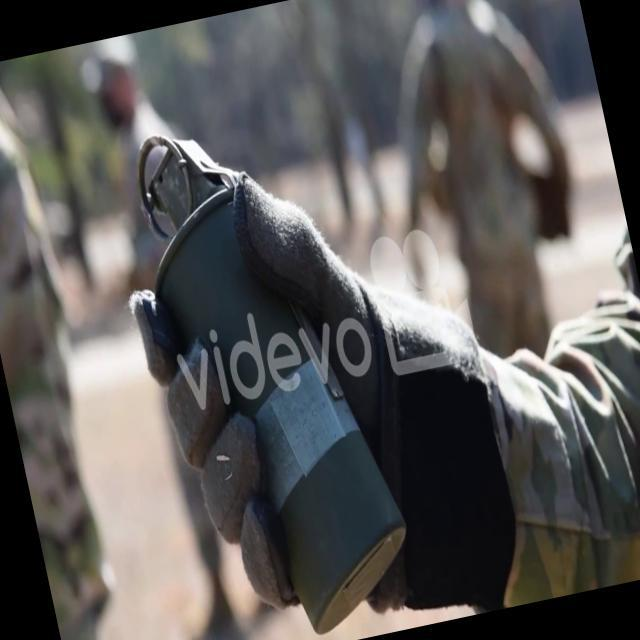grenade: (113, 94, 424, 640)
